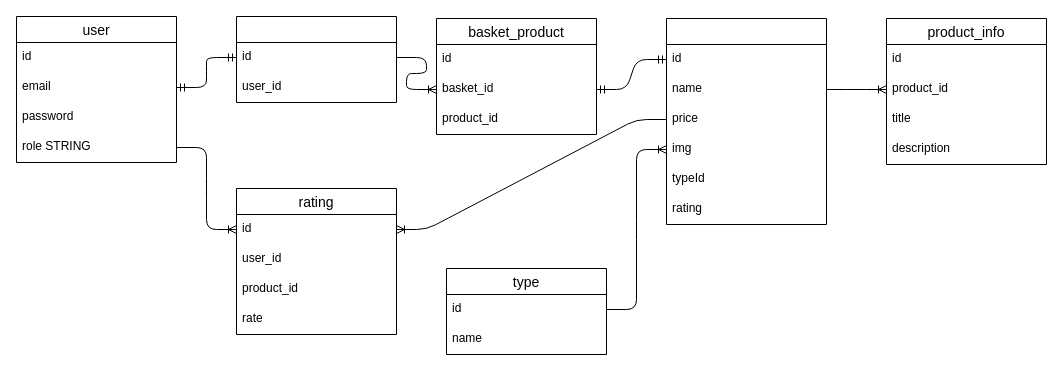
The diagram is 1063 pixels wide and 371 high, and some of its shapes have lost their labels. Here are the shapes that lost their labels. From the top down, the box of each, then its label:
(236, 16, 396, 102): basket
(666, 18, 826, 224): product
